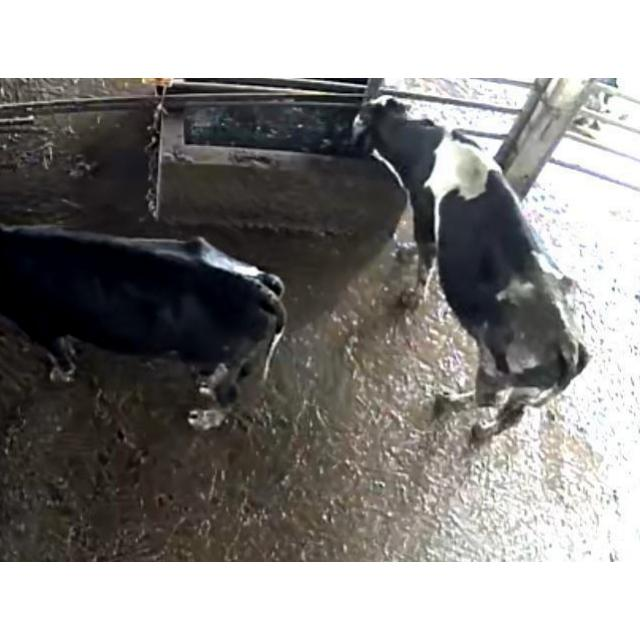drink: (304, 79, 476, 213)
